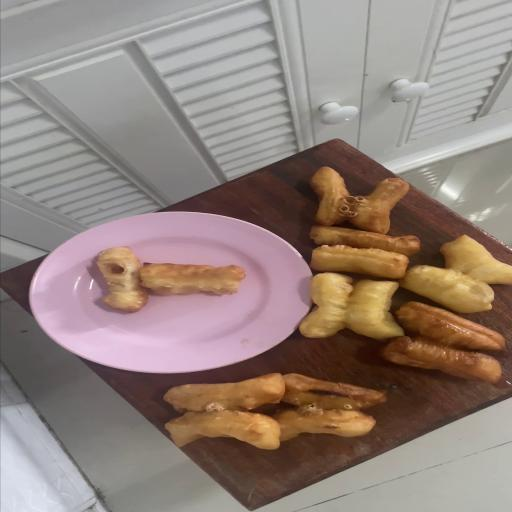street_golden_defect: (165, 372, 385, 449)
